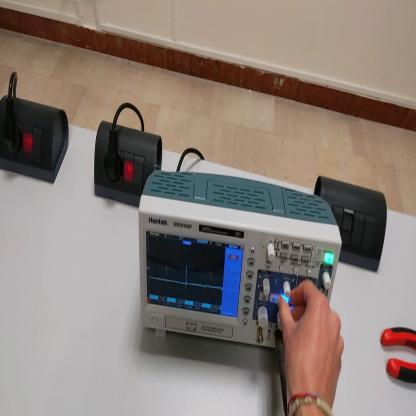hand: (278, 280, 344, 407)
oscilloscope: (139, 171, 342, 352)
pliers: (381, 326, 416, 385)
socket: (2, 95, 71, 188), (94, 122, 165, 209)
